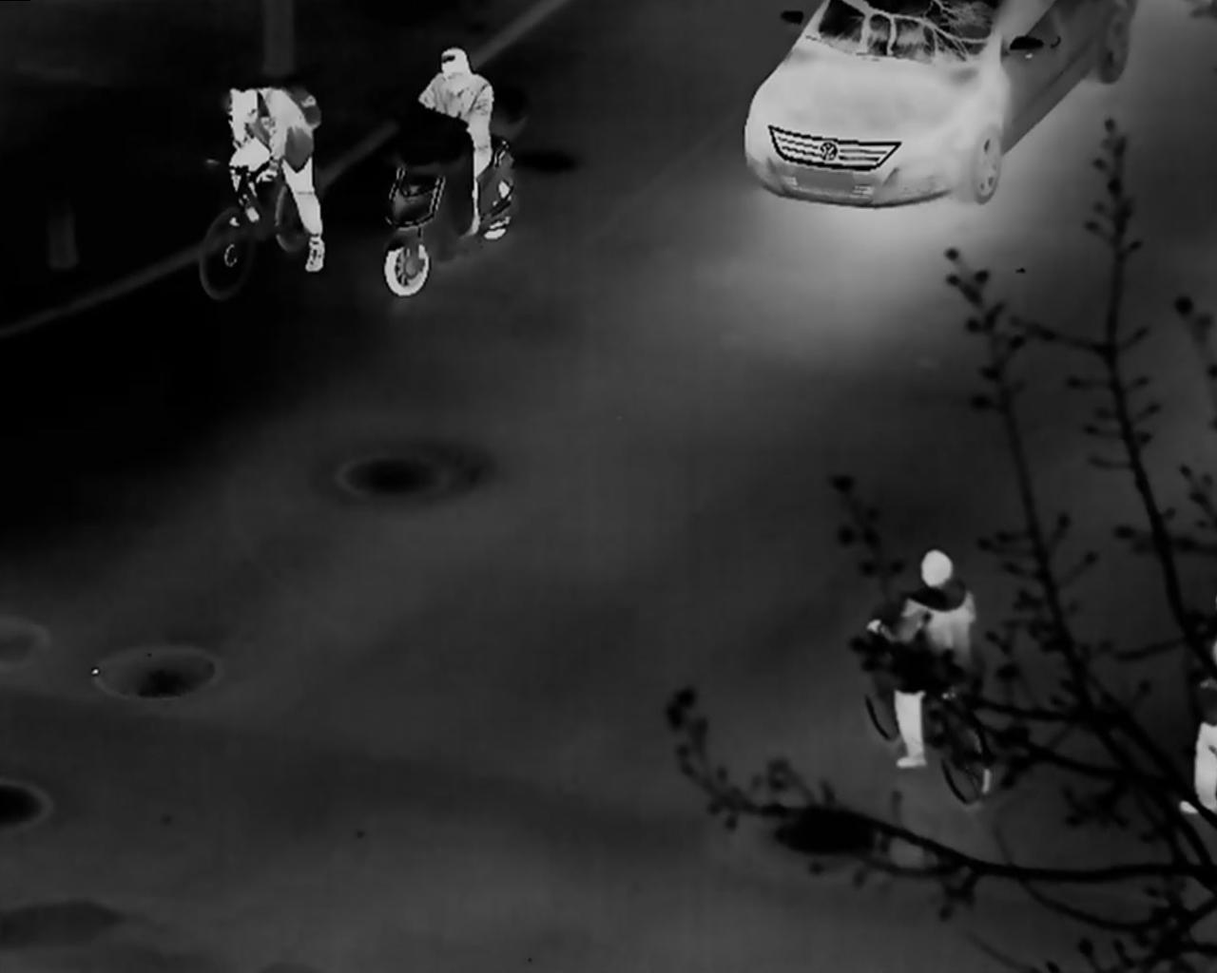person: (860, 550, 977, 771), (216, 78, 327, 276), (415, 42, 495, 238)
